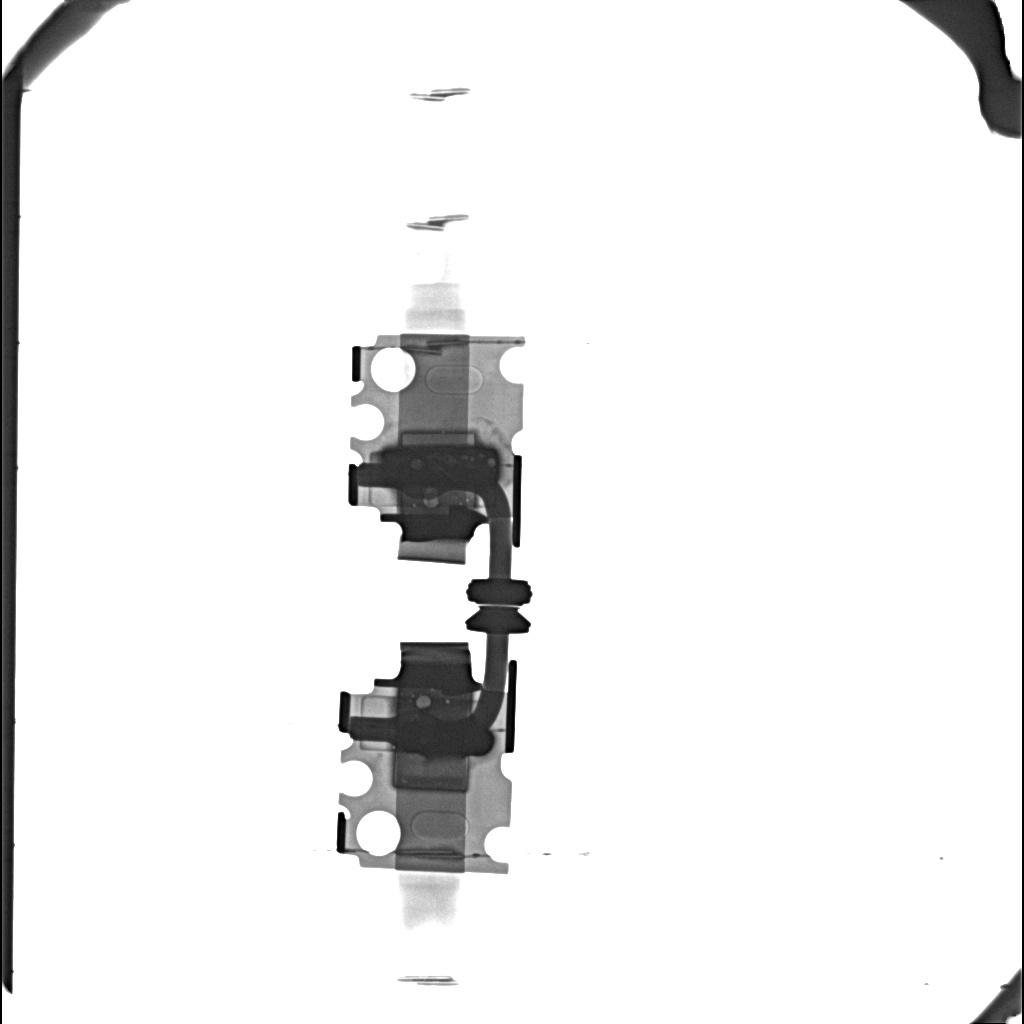PX: (392, 752, 470, 793), (399, 432, 477, 445)
QP: (416, 695, 430, 708), (424, 497, 439, 508)
SX: (382, 445, 499, 492), (397, 719, 494, 756)
